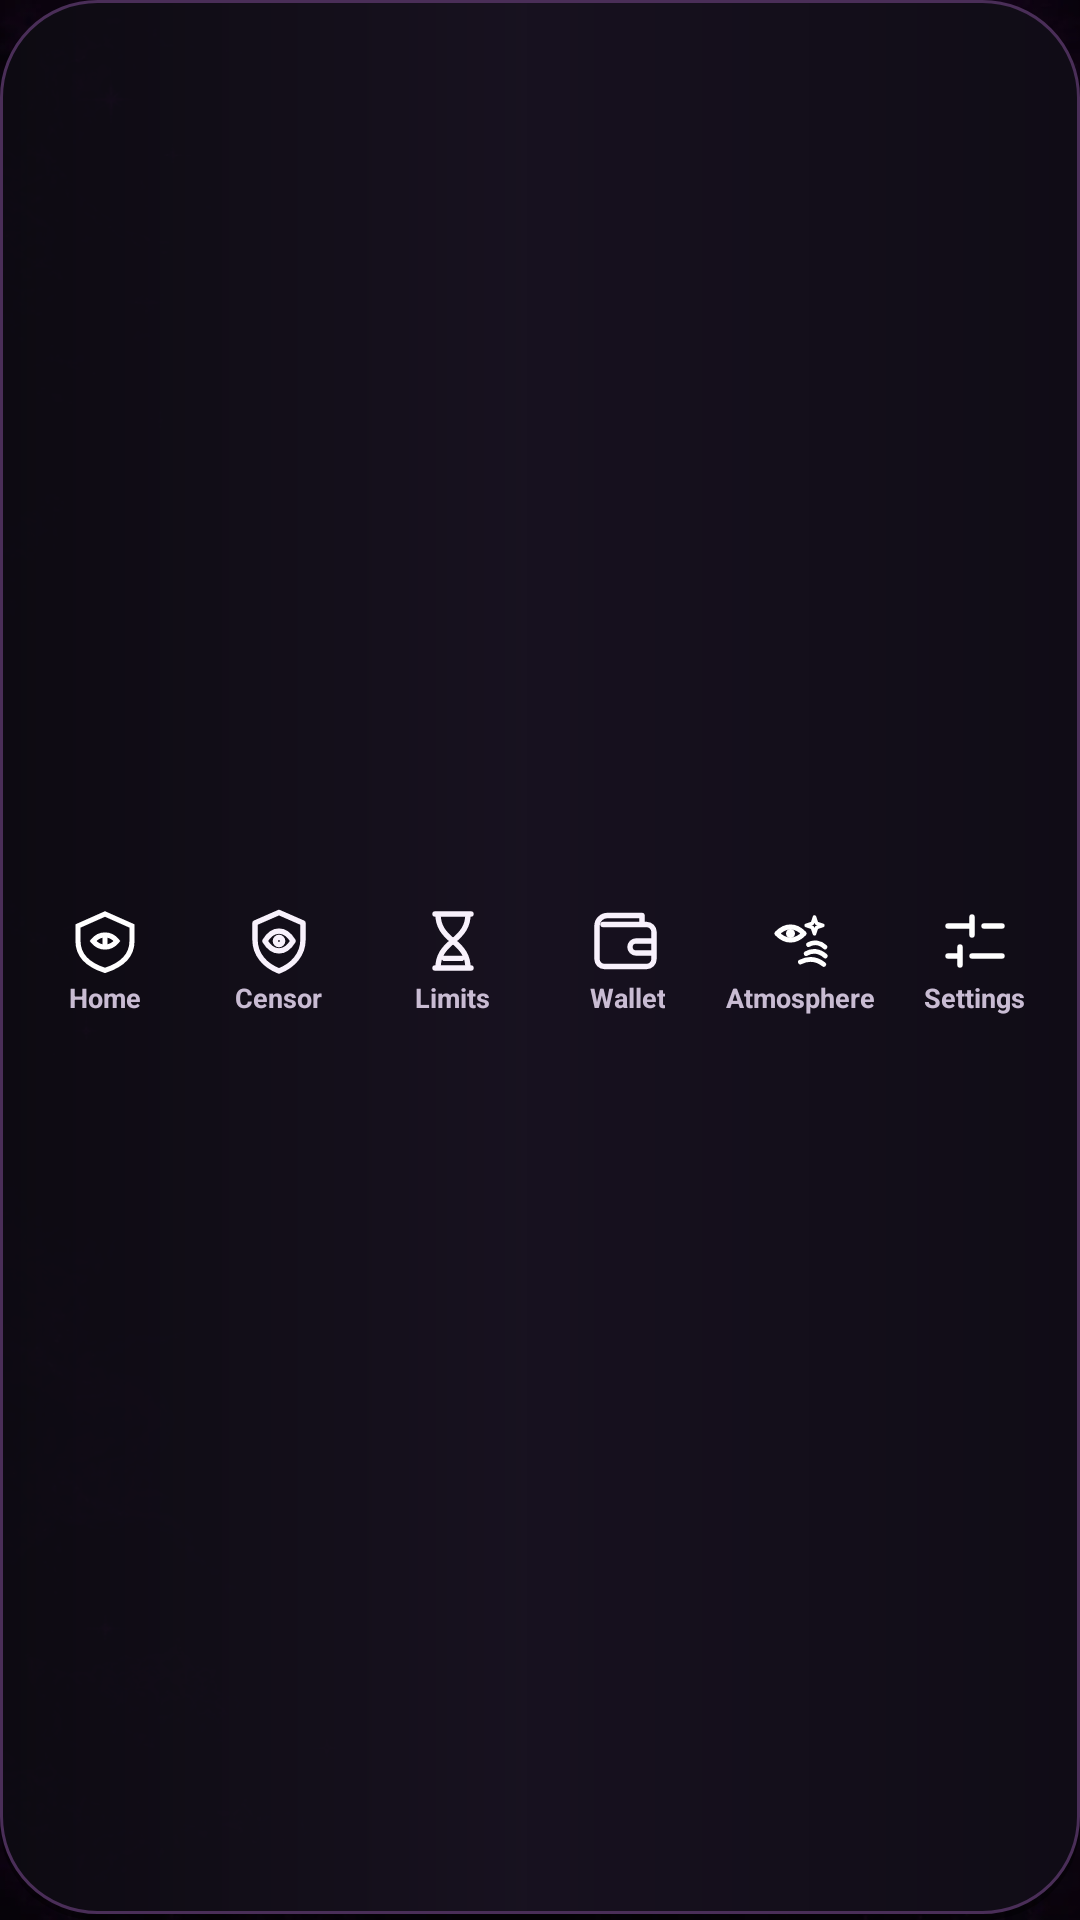

Point at icon controls on the screen. Image size 1080*1920, points as (x=x, y=y).
money: (x=625, y=941)
